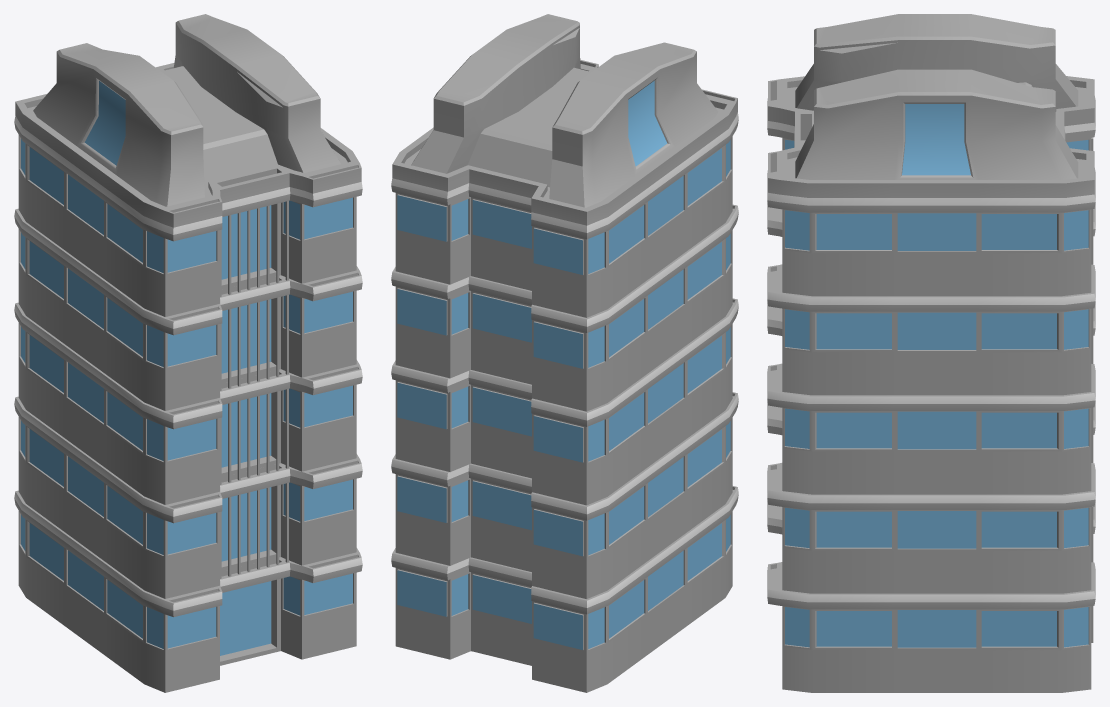
Rendered from buildings_03.fbx.
3 views of the same model, side by side, from view 1: azimuth 30°, elevation 25°; view 2: azimuth 150°, elevation 25°; view 3: azimuth 270°, elevation 25° (orthographic). The views are drawn at different scales.
Visible parts, largest first — view 1: building_004; view 2: building_004; view 3: building_004.
Part boxes in pixels (x1=…): building_004: x1=14, y1=14, x2=362, y2=692; building_004: x1=391, y1=14, x2=738, y2=692; building_004: x1=767, y1=14, x2=1095, y2=692.
Bounding box in the file's own units: 164 × 415 × 210.
